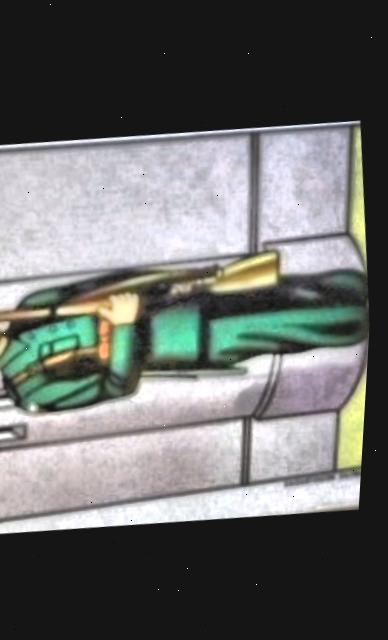El Soldado: (0, 121, 374, 524)
